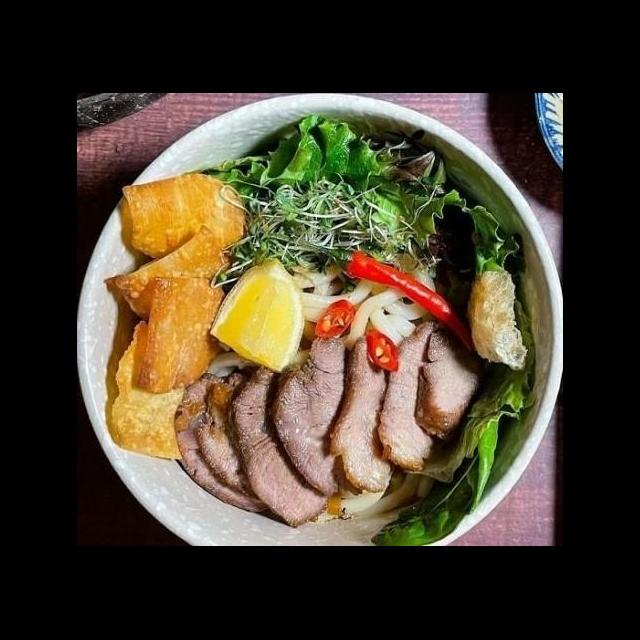banh da: (100, 224, 233, 324), (130, 271, 234, 398), (105, 318, 194, 466), (114, 168, 250, 264)
mi: (279, 247, 442, 376), (307, 464, 437, 530)
thit heo: (222, 360, 335, 532), (265, 332, 360, 504), (164, 368, 273, 516), (371, 318, 457, 478), (323, 332, 403, 499), (191, 370, 286, 504), (409, 323, 485, 442)
